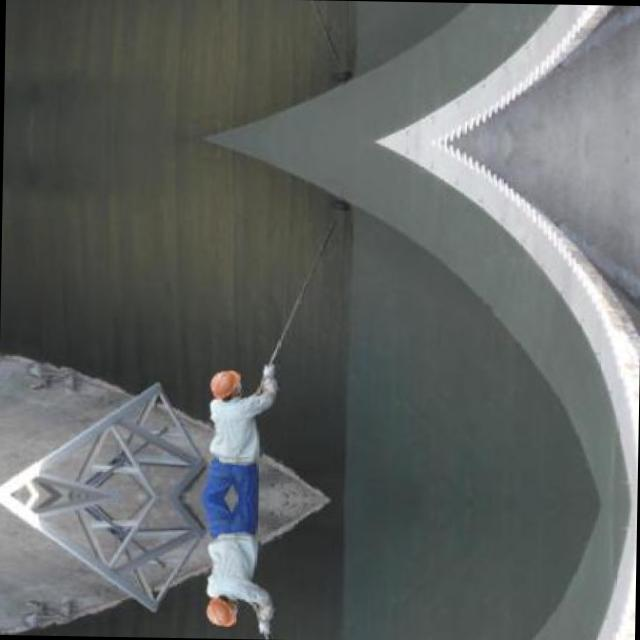helmet: (200, 593, 239, 628), (204, 368, 243, 402)
